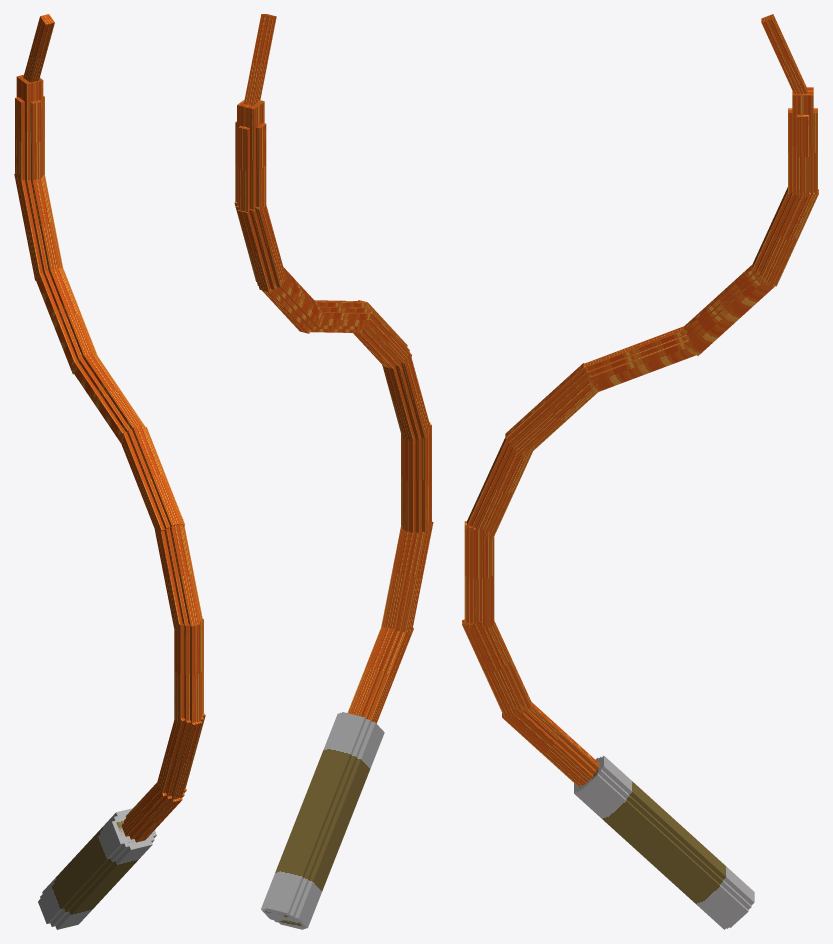
File: whip_fire.obj
3 views of the same model, side by side, from view 1: azimuth 30°, elevation 25°; view 2: azimuth 150°, elevation 25°; view 3: azimuth 270°, elevation 25° (orthographic). The views are drawn at different scales.
Visible parts, largest first — view 1: cube, Cube; view 2: cube, Cube; view 3: cube, Cube.
Part boxes in pixels (x1,y1,x2,y2): cube: (14, 14, 205, 842); Cube: (38, 808, 156, 929); cube: (234, 14, 433, 723); Cube: (261, 712, 384, 929); cube: (462, 14, 818, 786); Cube: (574, 756, 754, 929).
Bounding box in the file's own units: 0.1824 × 4.3 × 1.53.
